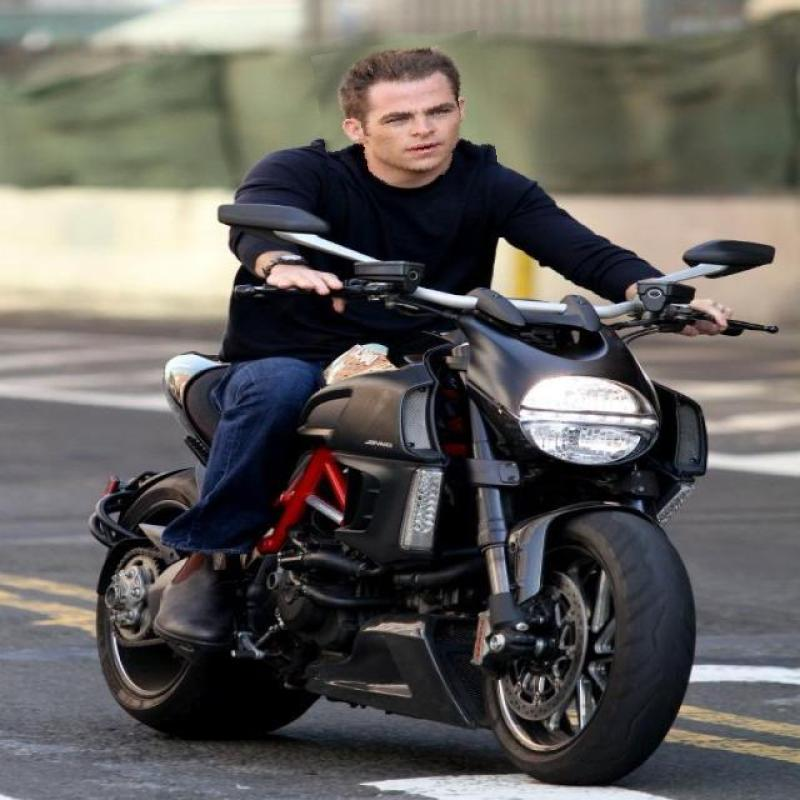nohelmet: (316, 36, 493, 186)
